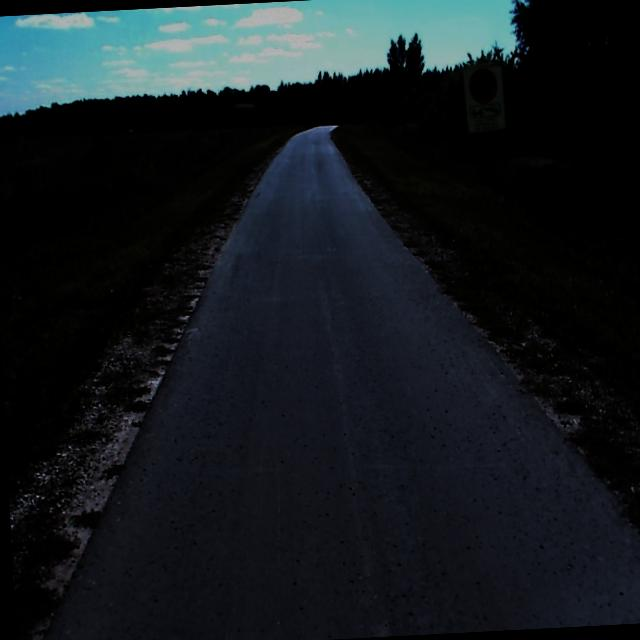road: (45, 126, 640, 640)
